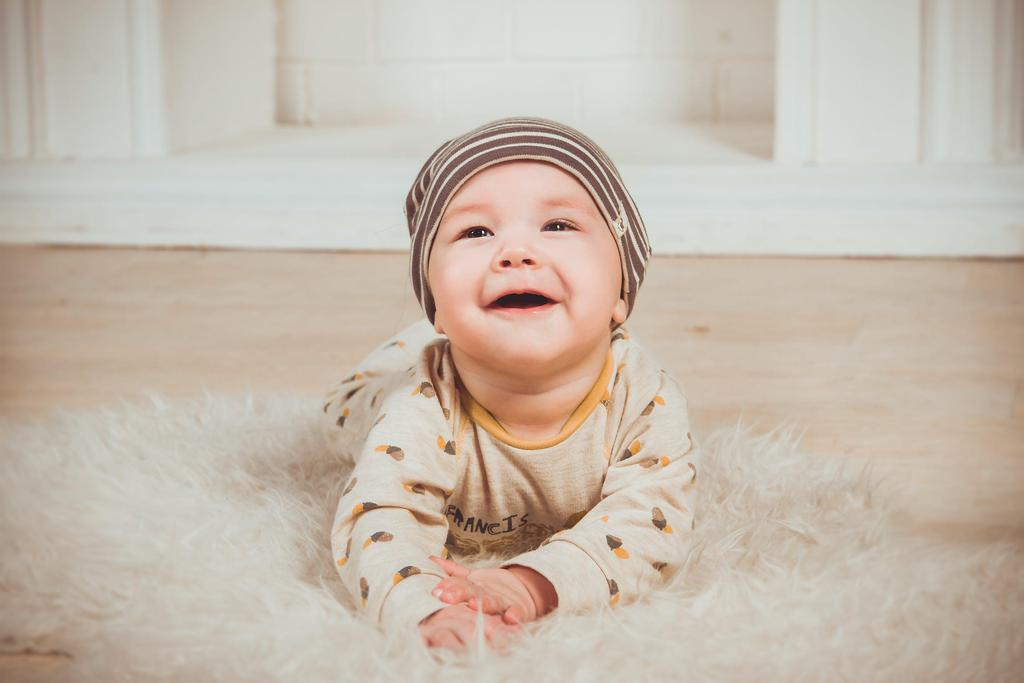child: (288, 114, 717, 656)
